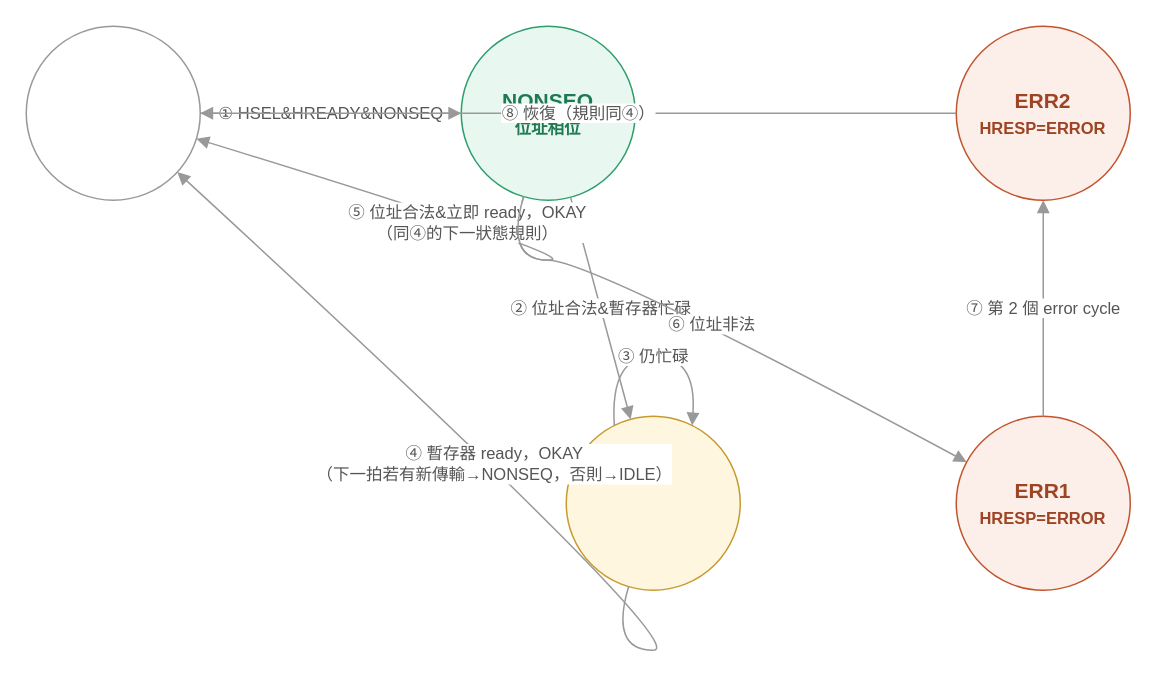
Some shapes in this 1157 by 677 pixel diagram are drawn without their labels. The shapes that lost their labels are listed below. From the top down, each one's centre as x and y in pixels, then its label:
At pixel 112 112: "IDLE HREADYOUT=1".
At pixel 652 502: "WAIT HREADYOUT=0".
